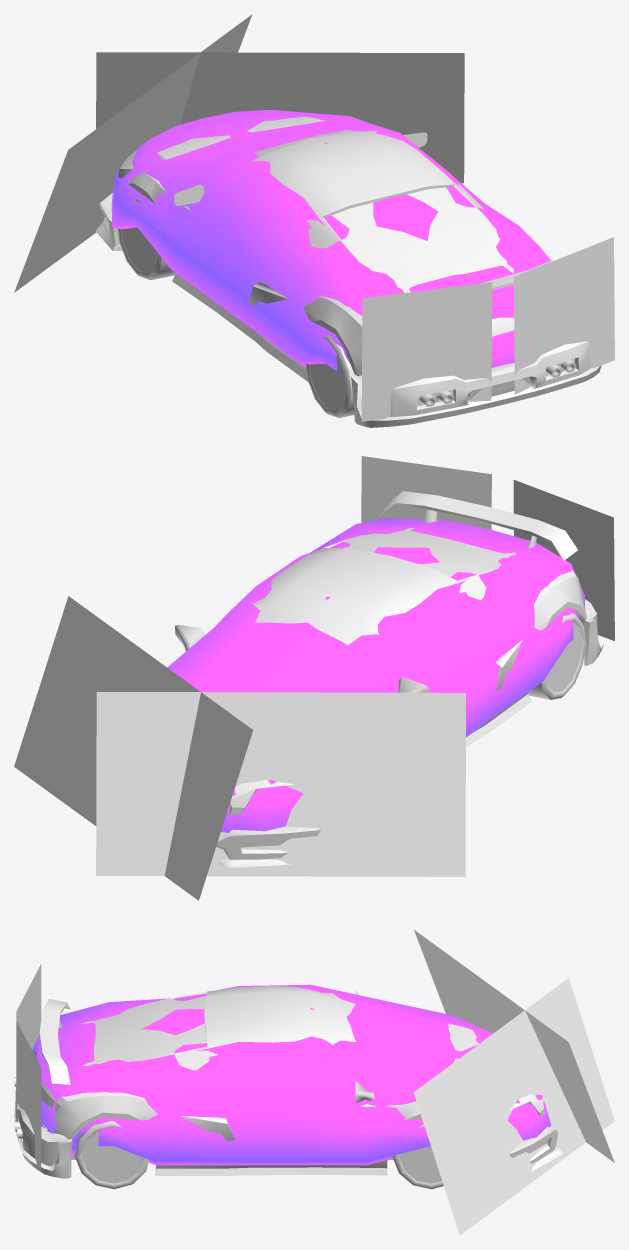
Rendered from AudiR8.fbx.
The picture shows the model from 3 angles, top to bottom: view 1: azimuth 30°, elevation 25°; view 2: azimuth 150°, elevation 25°; view 3: azimuth 270°, elevation 25°; orthographic projection. The views are drawn at different scales.
Visible parts, largest first — view 1: AudiR8Proxy, AudiR8FrontLights, AudiR8RearLights, AudiR8, AudiR8Glass, AudiR8RearBumper2, AudiR8Wheel_LB, AudiR8Wheel_LF, AudiR8FrontBumper2; view 2: AudiR8FrontLights, AudiR8Proxy, AudiR8, AudiR8RearLights, AudiR8Glass, AudiR8Spoiler1, AudiR8FrontBumper2, AudiR8Wheel_LB, AudiR8RearBumper2; view 3: AudiR8Proxy, AudiR8FrontLights, AudiR8, AudiR8Glass, AudiR8RearLights, AudiR8Wheel_RB, AudiR8RearBumper2, AudiR8Spoiler1, AudiR8Wheel_RF, AudiR8FrontBumper2.
Boxes of the visible parts, x1=… form: AudiR8Proxy: x1=111, y1=110, x2=551, y2=371; AudiR8FrontLights: x1=14, y1=14, x2=464, y2=292; AudiR8RearLights: x1=361, y1=237, x2=614, y2=421; AudiR8: x1=118, y1=116, x2=553, y2=381; AudiR8Glass: x1=253, y1=129, x2=507, y2=289; AudiR8RearBumper2: x1=351, y1=341, x2=601, y2=427; AudiR8Wheel_LB: x1=306, y1=335, x2=354, y2=417; AudiR8Wheel_LF: x1=118, y1=198, x2=175, y2=279; AudiR8FrontBumper2: x1=95, y1=193, x2=122, y2=250; AudiR8FrontLights: x1=14, y1=596, x2=465, y2=900; AudiR8Proxy: x1=167, y1=518, x2=584, y2=832; AudiR8: x1=175, y1=528, x2=586, y2=807; AudiR8RearLights: x1=361, y1=456, x2=614, y2=641; AudiR8Glass: x1=252, y1=530, x2=508, y2=645; AudiR8Spoiler1: x1=379, y1=491, x2=577, y2=560; AudiR8FrontBumper2: x1=216, y1=788, x2=321, y2=867; AudiR8Wheel_LB: x1=528, y1=613, x2=586, y2=699; AudiR8RearBumper2: x1=583, y1=599, x2=603, y2=665; AudiR8Proxy: x1=32, y1=984, x2=551, y2=1165; AudiR8FrontLights: x1=413, y1=930, x2=614, y2=1235; AudiR8: x1=34, y1=986, x2=544, y2=1175; AudiR8Glass: x1=93, y1=993, x2=355, y2=1063; AudiR8RearLights: x1=16, y1=964, x2=41, y2=1170; AudiR8Wheel_RB: x1=74, y1=1121, x2=148, y2=1189; AudiR8RearBumper2: x1=14, y1=1077, x2=72, y2=1178; AudiR8Spoiler1: x1=39, y1=999, x2=70, y2=1084; AudiR8Wheel_RF: x1=392, y1=1124, x2=443, y2=1189; AudiR8FrontBumper2: x1=509, y1=1111, x2=563, y2=1171.
Size of the model in its own units: 3.82 by 5.24 by 1.31.
